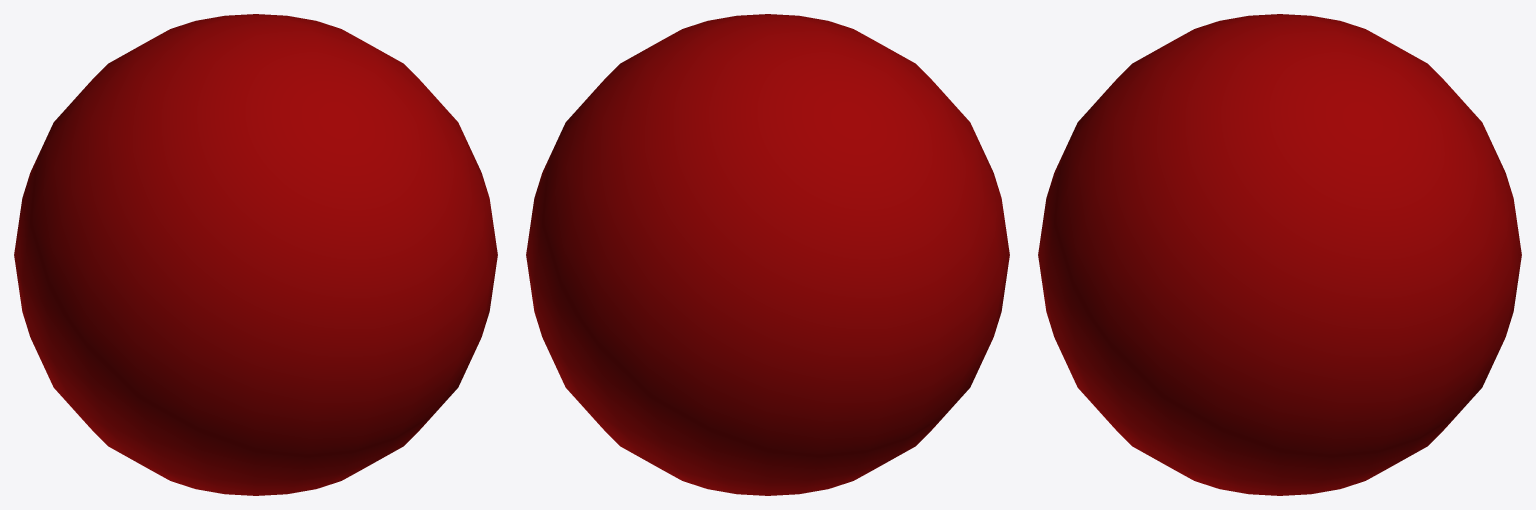
The model's file is Ribbon - DARK.fbx.
3 renders of one model, left to right at view 1: azimuth 30°, elevation 25°; view 2: azimuth 150°, elevation 25°; view 3: azimuth 270°, elevation 25°, orthographic.
Parts seen in each view (by area): view 1: SketchUp; view 2: SketchUp; view 3: SketchUp.
Boxes of the visible parts, box(x1,y1,x2,y2) form: SketchUp: box(14, 14, 497, 495); SketchUp: box(526, 14, 1009, 495); SketchUp: box(1038, 14, 1521, 495).
Bounding box in the file's own units: 100 × 100 × 100.
